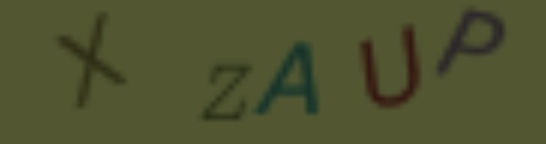A: (257, 35, 317, 119)
P: (433, 5, 508, 78)
U: (358, 18, 423, 107)
X: (56, 7, 136, 108)
Z: (198, 61, 253, 124)
